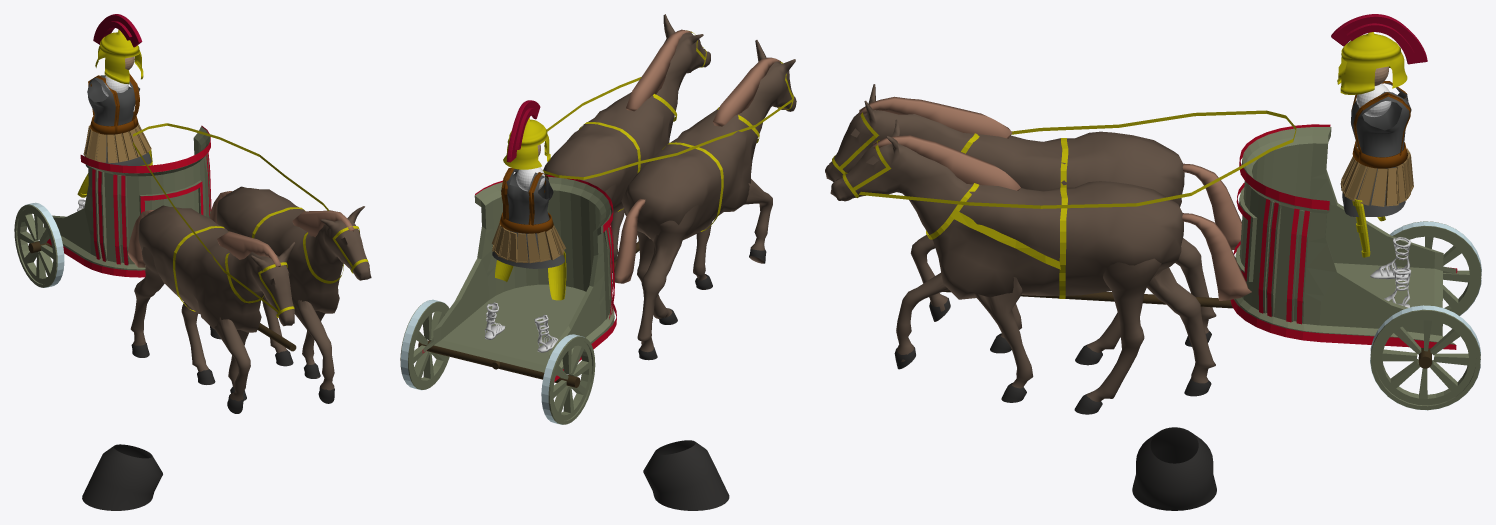
File: Chariot.dae
The picture shows the model from 3 angles, left to right: view 1: azimuth 30°, elevation 25°; view 2: azimuth 150°, elevation 25°; view 3: azimuth 270°, elevation 25°; orthographic projection. The views are drawn at different scales.
Parts seen in each view (by area): view 1: horse_body, horse_body_001, chariot, hoof, chariot_001, wheel_001, Circle_003, armor_upper_leg, helmet, rigth_rear_leg, front_left_leg_001, front_left_leg (+9 smaller); view 2: chariot, horse_body, horse_body_001, hoof, wheel_001, rigth_rear_leg, Circle_003, wheel, armor_upper_leg, tail_002, tail_001, helmet (+13 smaller); view 3: horse_body_001, chariot, horse_body, wheel, chariot_001, hoof, left_rear_leg_001, Circle_003, helmet, Plane_001, armor_upper_leg, rigth_rear_leg_001 (+15 smaller).
Boxes of the visible parts, x1,y1,x2,y2 form: horse_body: [138, 205, 295, 332]; horse_body_001: [216, 186, 371, 313]; chariot: [43, 126, 210, 270]; hoof: [82, 444, 162, 510]; chariot_001: [47, 125, 211, 277]; wheel_001: [14, 204, 57, 287]; Circle_003: [85, 75, 151, 167]; armor_upper_leg: [83, 123, 151, 163]; helmet: [95, 29, 143, 84]; rigth_rear_leg: [130, 246, 164, 345]; front_left_leg_001: [294, 300, 334, 390]; front_left_leg: [214, 317, 250, 413]; chariot: [423, 177, 614, 375]; horse_body: [621, 40, 796, 241]; horse_body_001: [543, 14, 710, 214]; hoof: [643, 440, 729, 510]; wheel_001: [548, 336, 595, 424]; rigth_rear_leg: [637, 205, 699, 352]; Circle_003: [492, 169, 564, 268]; wheel: [400, 301, 449, 389]; armor_upper_leg: [492, 223, 565, 263]; tail_002: [626, 29, 691, 111]; tail_001: [713, 57, 780, 126]; helmet: [503, 118, 550, 169]; horse_body_001: [830, 119, 1183, 299]; chariot: [1234, 127, 1456, 344]; horse_body: [825, 84, 1184, 206]; wheel: [1370, 309, 1480, 410]; chariot_001: [1230, 124, 1457, 349]; hoof: [1132, 427, 1216, 510]; left_rear_leg_001: [1086, 258, 1161, 401]; Circle_003: [1342, 83, 1411, 216]; helmet: [1337, 32, 1407, 94]; Plane_001: [859, 110, 1296, 208]; armor_upper_leg: [1340, 147, 1413, 206]; rigth_rear_leg_001: [1147, 267, 1215, 383].
Size of the model in its own units: 1.58 by 3.66 by 3.24.
